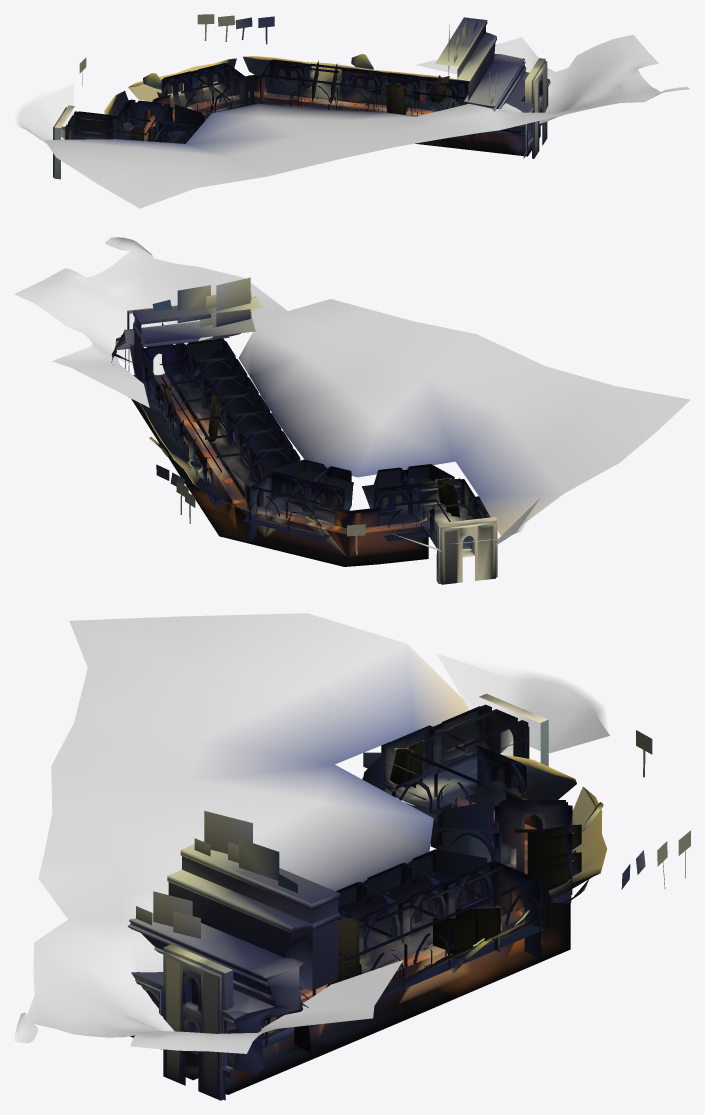
File: 06Interior.gltf
3 renders of one model, top to bottom at view 1: azimuth 30°, elevation 25°; view 2: azimuth 150°, elevation 25°; view 3: azimuth 270°, elevation 25°, orthographic. The views are drawn at different scales.
Parts seen in each view (by area): view 1: stg010_a07_Mesh_0002.001, stg010_o07_Mesh_0002, stg010_sand_07_Mesh_0000, stg010_o07_Mesh_0001, stg010_o34_Mesh_0023, stg010_o07_Mesh_0011, stg010_o34_Mesh_0014, stg010_k07_Mesh_0000, stg010_o07_Mesh_0006, stg010_o07_Mesh_0007, stg010_a07_Mesh_0002, stg010_o34_Mesh_0019 (+8 smaller); view 2: stg010_a07_Mesh_0002.001, stg010_o07_Mesh_0002, stg010_o07_Mesh_0001, stg010_sand_07_Mesh_0000, stg010_o07_Mesh_0011, stg010_o34_Mesh_0023, stg010_p34_Mesh_0000, stg010_a07_Mesh_0002, stg010_o07_Mesh_0006, stg010_o07_Mesh_0007, stg010_o34_Mesh_0014, stg010_o20_Mesh_0033 (+8 smaller); view 3: stg010_a07_Mesh_0002.001, stg010_o07_Mesh_0001, stg010_o07_Mesh_0002, stg010_o34_Mesh_0014, stg010_sand_07_Mesh_0000, stg010_o07_Mesh_0011, stg010_o34_Mesh_0023, stg010_o34_Mesh_0004, stg010_p34_Mesh_0000, stg010_k07_Mesh_0001, stg010_o07_Mesh_0007, stg010_a07_Mesh_0002 (+10 smaller).
Boxes of the visible parts, <box> form: stg010_a07_Mesh_0002.001: <box>20,34,689,208</box>; stg010_o07_Mesh_0002: <box>65,59,542,151</box>; stg010_sand_07_Mesh_0000: <box>104,56,520,143</box>; stg010_o07_Mesh_0001: <box>53,17,550,177</box>; stg010_o34_Mesh_0023: <box>435,18,522,106</box>; stg010_o07_Mesh_0011: <box>79,54,524,134</box>; stg010_o34_Mesh_0014: <box>54,26,545,179</box>; stg010_k07_Mesh_0000: <box>129,75,449,141</box>; stg010_o07_Mesh_0006: <box>68,67,542,141</box>; stg010_o07_Mesh_0007: <box>66,66,546,156</box>; stg010_a07_Mesh_0002: <box>75,89,524,141</box>; stg010_o34_Mesh_0019: <box>61,78,542,139</box>; stg010_a07_Mesh_0002.001: <box>14,237,690,551</box>; stg010_o07_Mesh_0002: <box>134,338,488,582</box>; stg010_o07_Mesh_0001: <box>115,296,497,584</box>; stg010_sand_07_Mesh_0000: <box>139,349,433,534</box>; stg010_o07_Mesh_0011: <box>146,341,482,518</box>; stg010_o34_Mesh_0023: <box>124,297,262,345</box>; stg010_p34_Mesh_0000: <box>152,277,251,340</box>; stg010_a07_Mesh_0002: <box>141,374,467,541</box>; stg010_o07_Mesh_0006: <box>152,351,488,557</box>; stg010_o07_Mesh_0007: <box>141,357,492,584</box>; stg010_o34_Mesh_0014: <box>127,305,496,583</box>; stg010_o20_Mesh_0033: <box>156,374,490,556</box>; stg010_a07_Mesh_0002.001: <box>14,613,609,1053</box>; stg010_o07_Mesh_0001: <box>127,720,570,1100</box>; stg010_o07_Mesh_0002: <box>183,704,574,1092</box>; stg010_o34_Mesh_0014: <box>141,693,564,1020</box>; stg010_sand_07_Mesh_0000: <box>233,755,606,1039</box>; stg010_o07_Mesh_0011: <box>338,721,599,967</box>; stg010_o34_Mesh_0023: <box>133,840,337,975</box>; stg010_o34_Mesh_0004: <box>227,735,603,1074</box>; stg010_p34_Mesh_0000: <box>136,811,297,938</box>; stg010_k07_Mesh_0001: <box>433,824,581,953</box>; stg010_o07_Mesh_0007: <box>167,727,564,1098</box>; stg010_a07_Mesh_0002: <box>262,744,514,1040</box>.
Bounding box in the file's own units: 279 × 62.66 × 181.
